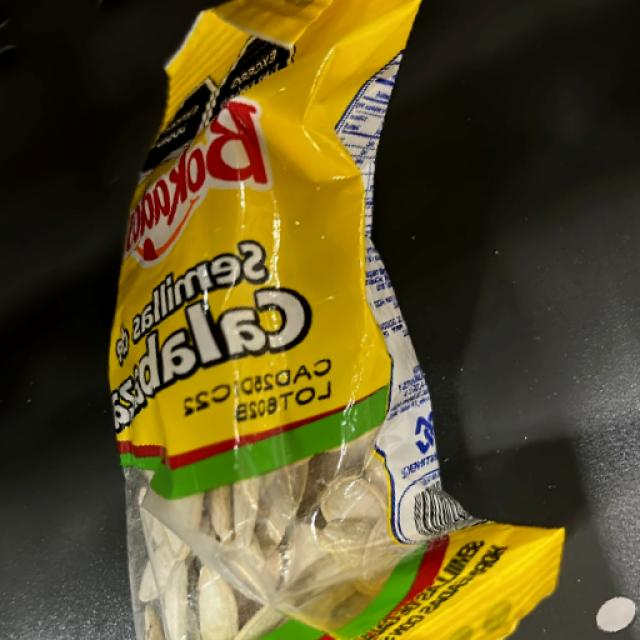semillasCalabaza: (118, 0, 418, 640)
